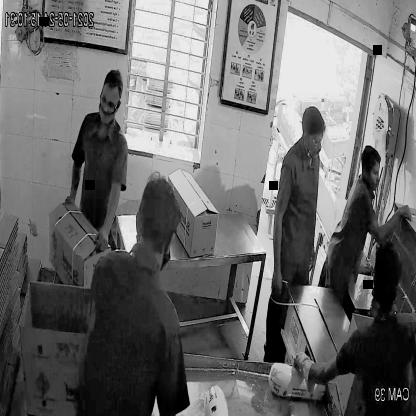goggles: (97, 90, 123, 115), (301, 130, 328, 148)
